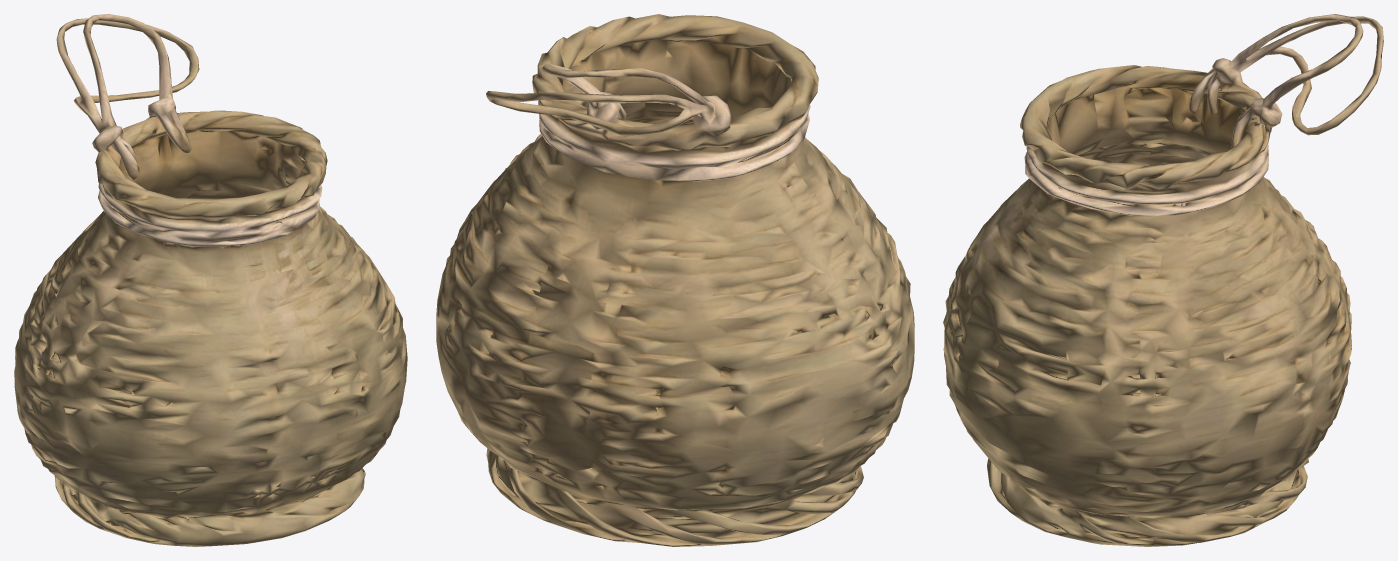
Rendered from basket.glb.
3 renders of one model, left to right at view 1: azimuth 30°, elevation 25°; view 2: azimuth 150°, elevation 25°; view 3: azimuth 270°, elevation 25°, orthographic. The views are drawn at different scales.
Parts seen in each view (by area): view 1: Mesh; view 2: Mesh; view 3: Mesh.
Part boxes in pixels (<box>): Mesh: <box>14,14,407,546</box>; Mesh: <box>436,14,914,546</box>; Mesh: <box>943,14,1383,546</box>.
Size of the model in its own units: 0.9093 by 1 by 0.8938.
Materials: 1 (1 with a texture image).
